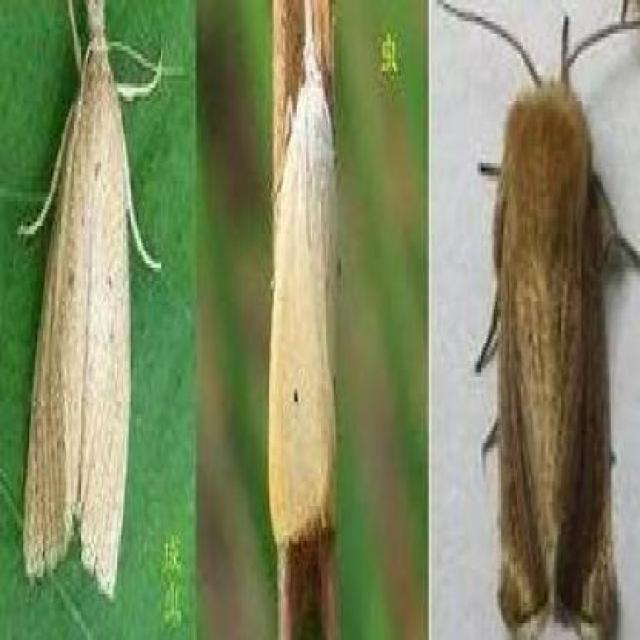stem-borer: (460, 0, 640, 640), (14, 0, 152, 603), (264, 0, 342, 557)
